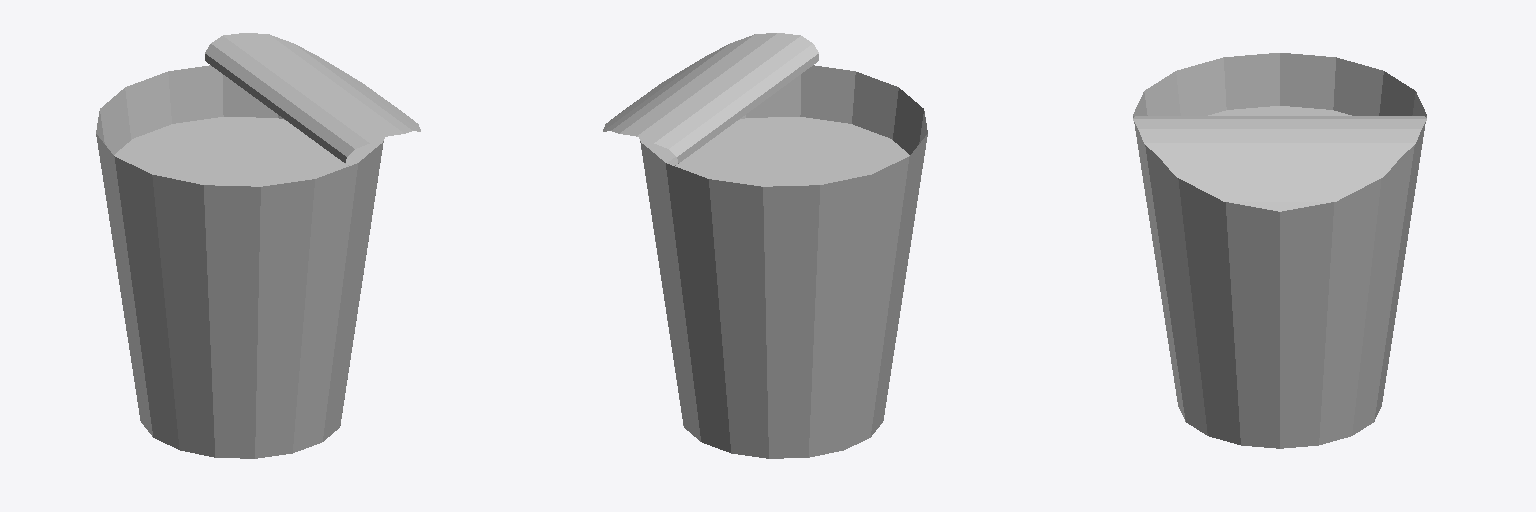
Rendered from cupnoodle.obj.
3 views of the same model, side by side, from view 1: azimuth 30°, elevation 25°; view 2: azimuth 150°, elevation 25°; view 3: azimuth 270°, elevation 25° (orthographic).
Parts seen in each view (by area): view 1: Circle_Circle.001, Circle.002_Circle.003, Circle.001_Circle.002; view 2: Circle_Circle.001, Circle.002_Circle.003, Circle.001_Circle.002; view 3: Circle_Circle.001, Circle.002_Circle.003, Circle.001_Circle.002.
Boxes of the visible parts, box(x1,y1,x2,y2) form: Circle_Circle.001: box(96, 65, 383, 458); Circle.002_Circle.003: box(205, 33, 420, 165); Circle.001_Circle.002: box(114, 117, 363, 186); Circle_Circle.001: box(640, 65, 927, 458); Circle.002_Circle.003: box(603, 33, 818, 165); Circle.001_Circle.002: box(660, 117, 909, 186); Circle_Circle.001: box(1133, 53, 1426, 448); Circle.002_Circle.003: box(1133, 116, 1426, 211); Circle.001_Circle.002: box(1208, 106, 1351, 115).
Bounding box in the file's own units: 1.65 × 1.74 × 1.49.